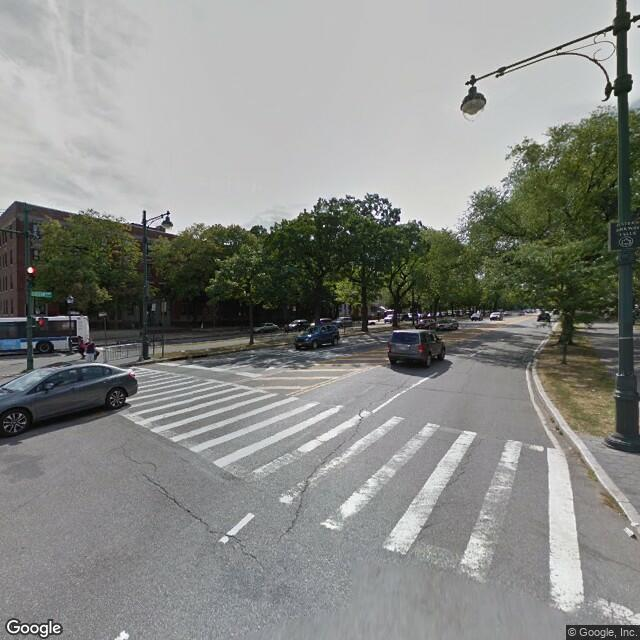litter: (619, 527, 633, 536)
